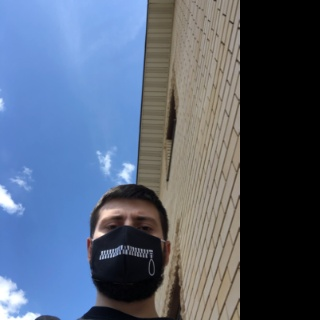with_mask: (91, 209, 165, 303)
